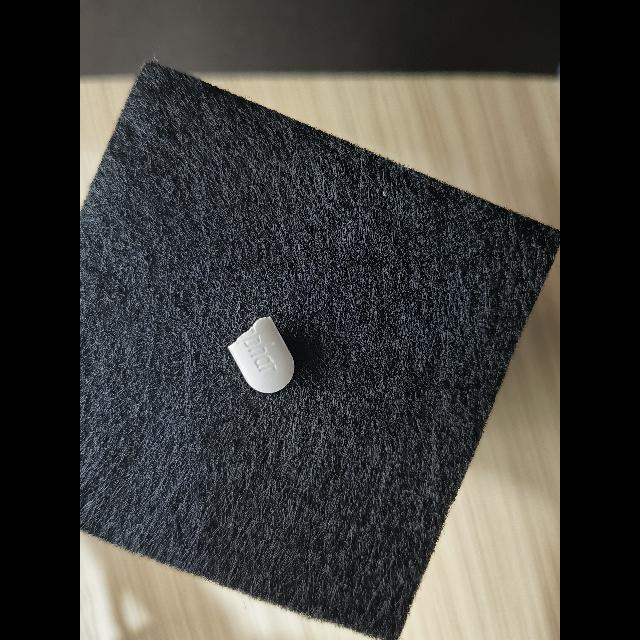Chipped Pill: (228, 316, 294, 393)
